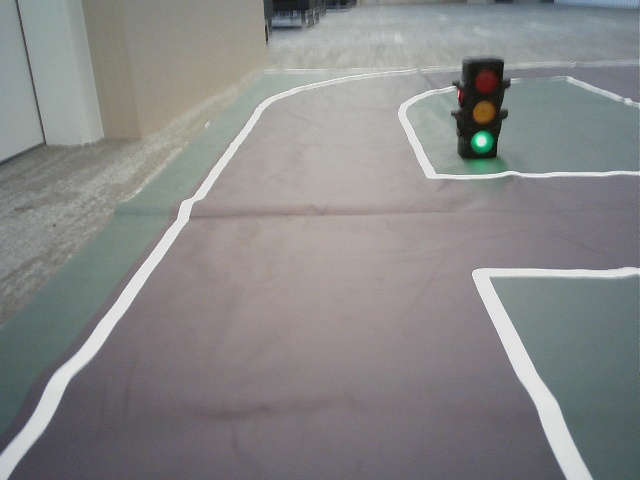green: (466, 66, 502, 157)
